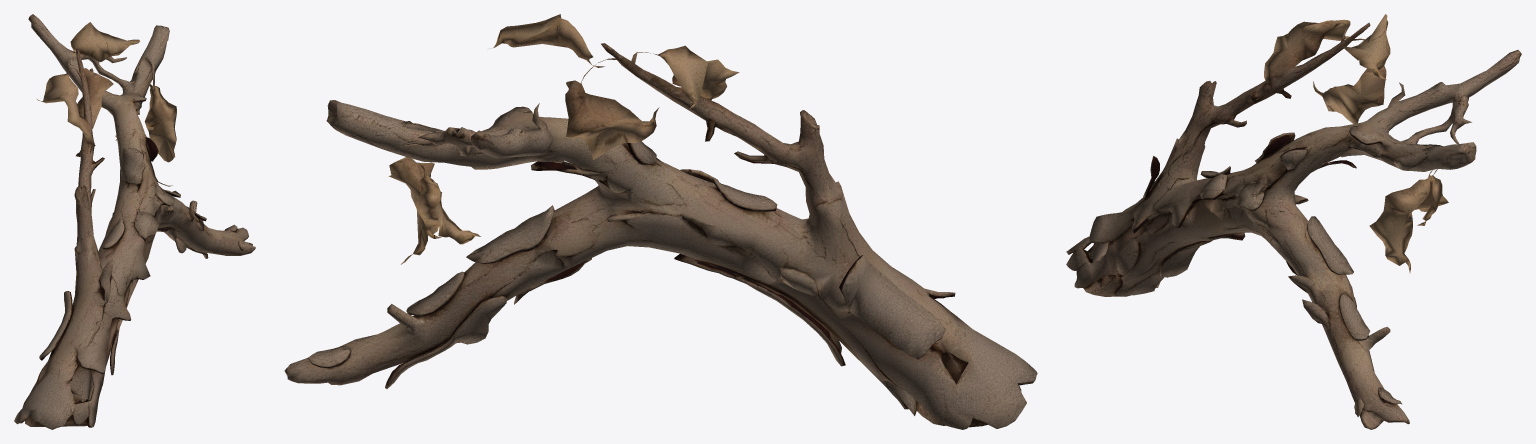
3 renders of one model, left to right at view 1: azimuth 30°, elevation 25°; view 2: azimuth 150°, elevation 25°; view 3: azimuth 270°, elevation 25°, orthographic. The views are drawn at different scales.
Visible parts, largest first — view 1: tripo_node_8eaf7445-3f55-4469-af26-e9794a9c3e67; view 2: tripo_node_8eaf7445-3f55-4469-af26-e9794a9c3e67; view 3: tripo_node_8eaf7445-3f55-4469-af26-e9794a9c3e67.
Part boxes in pixels (left/top/right/bottom): tripo_node_8eaf7445-3f55-4469-af26-e9794a9c3e67: left=14, top=14, right=255, bottom=429; tripo_node_8eaf7445-3f55-4469-af26-e9794a9c3e67: left=284, top=14, right=1037, bottom=429; tripo_node_8eaf7445-3f55-4469-af26-e9794a9c3e67: left=1066, top=14, right=1521, bottom=429.
Bounding box in the file's own units: 0.998 × 0.7949 × 0.9395.
Materials: 1 (1 with a texture image).
